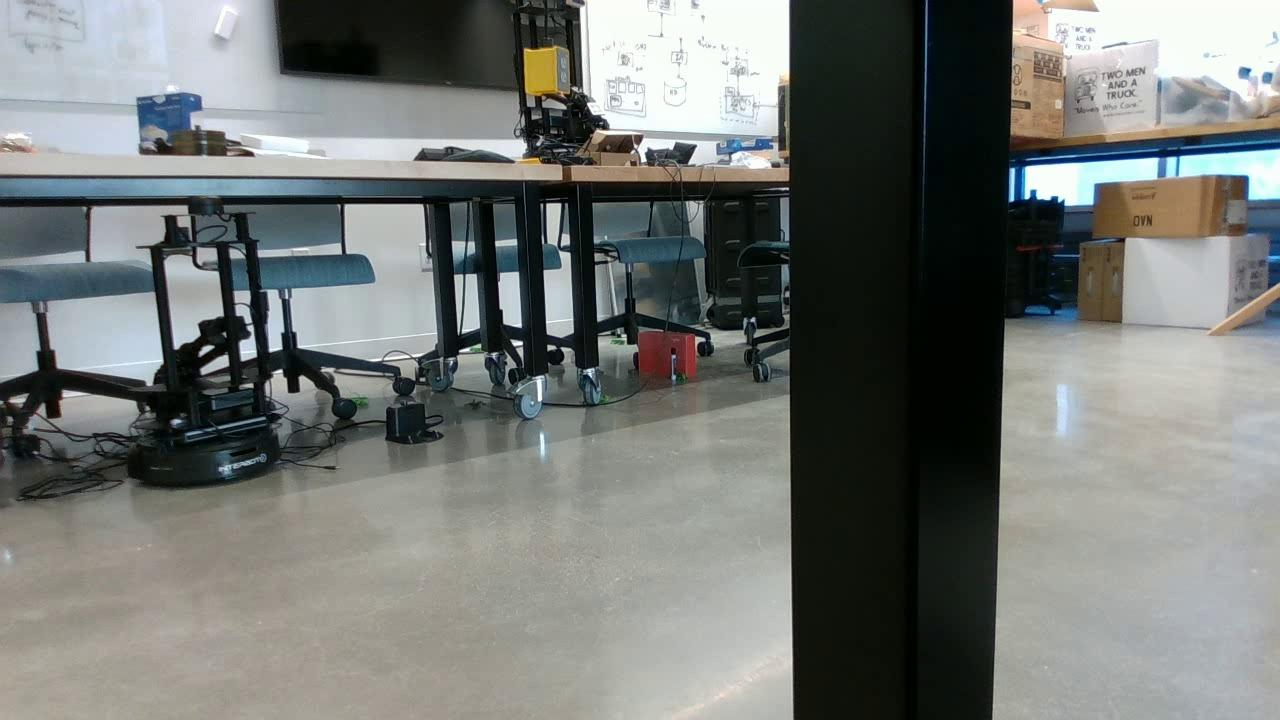grasshopper: (339, 395, 367, 407), (669, 371, 689, 382), (591, 394, 613, 404), (607, 338, 627, 346), (464, 346, 485, 351)
